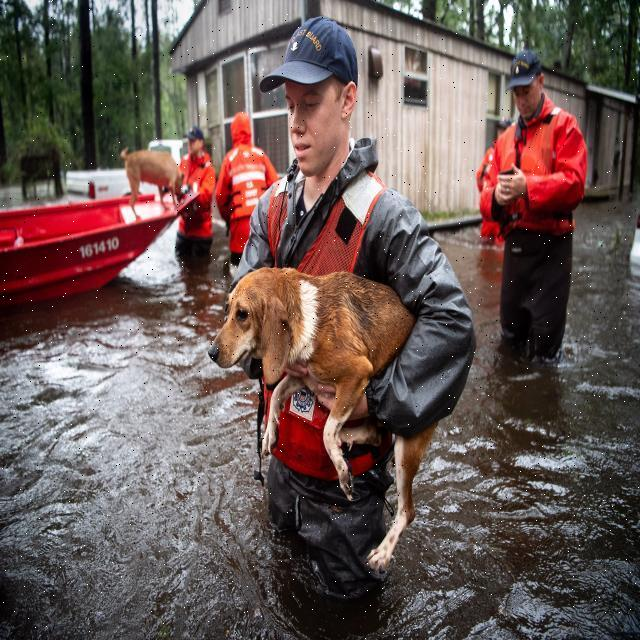rescuer: (271, 13, 413, 258), (494, 46, 588, 386), (178, 120, 218, 305), (223, 111, 266, 203)
